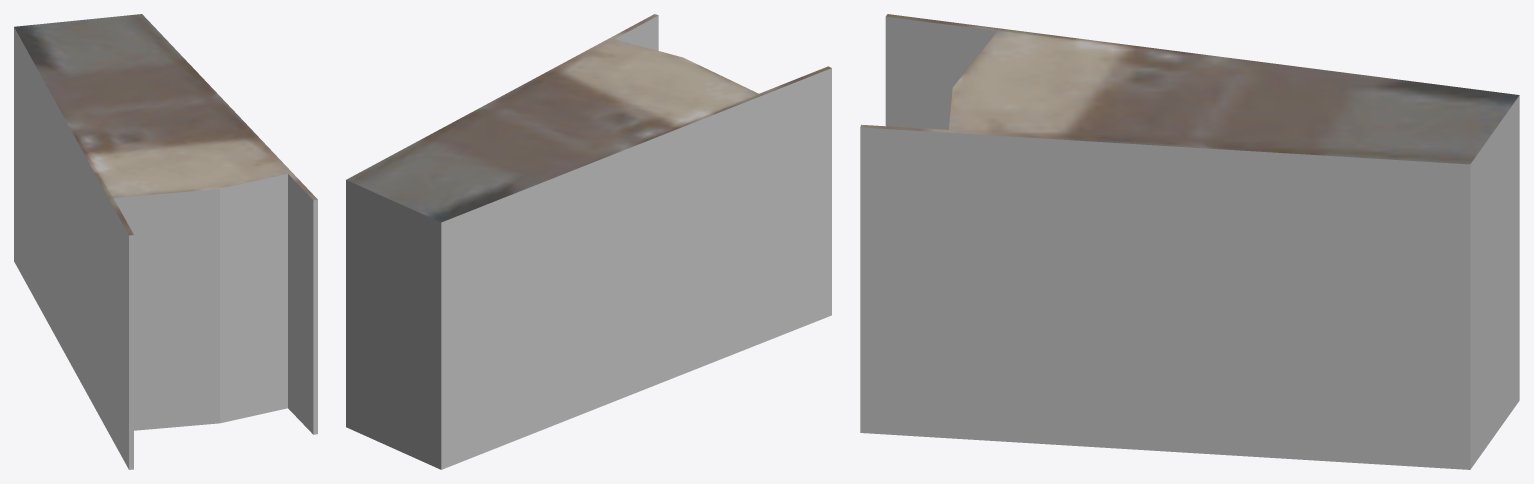
Rendered from DEBW_0010007TvlN.gltf.
The picture shows the model from 3 angles, left to right: view 1: azimuth 30°, elevation 25°; view 2: azimuth 150°, elevation 25°; view 3: azimuth 270°, elevation 25°; orthographic projection. The views are drawn at different scales.
Visible parts, largest first — view 1: Z_UP; view 2: Z_UP; view 3: Z_UP.
Boxes of the visible parts, x1=… form: Z_UP: x1=14, y1=14, x2=317, y2=469; Z_UP: x1=346, y1=14, x2=831, y2=469; Z_UP: x1=860, y1=14, x2=1519, y2=469.
Size of the model in its own units: 9.02 by 8.54 by 16.7.
Materials: 2 (1 with a texture image).
